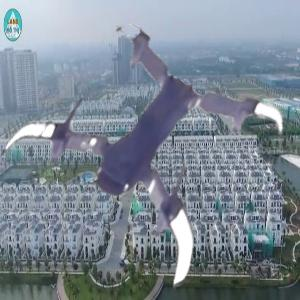drone: (7, 30, 265, 288)
